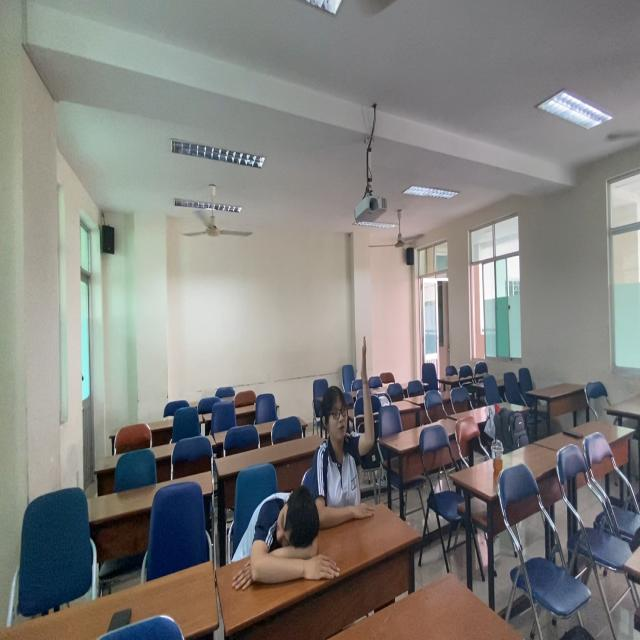raise_hand: (314, 334, 380, 525)
sleep: (234, 484, 346, 595)
